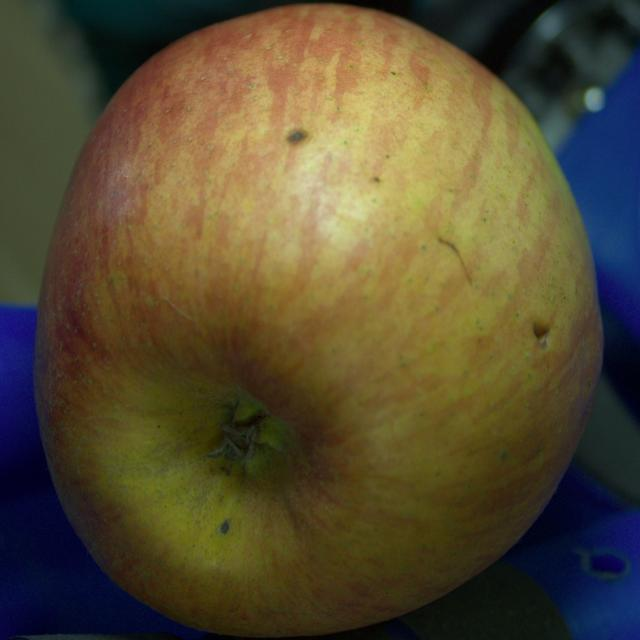apple: (33, 4, 602, 637)
pest: (534, 323, 549, 346), (287, 129, 308, 143), (221, 522, 229, 533)
scratch: (439, 237, 472, 284)
